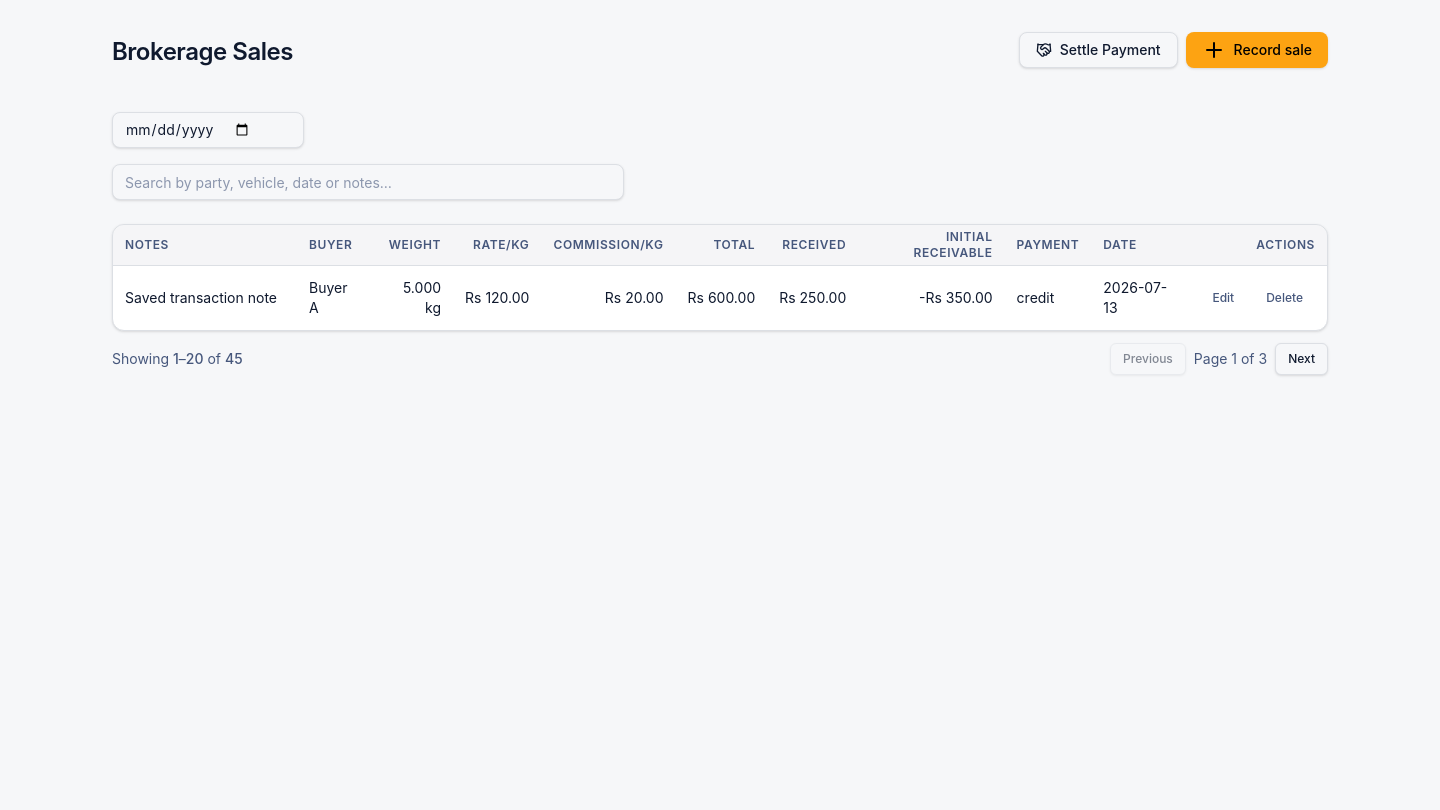
Test: Brokerage transaction balances › offers only external buyers and supports party search
This screenshot has width=1440, height=810.
Click the button "Record sale" at point(1257, 50), box [1186,32,1328,68]
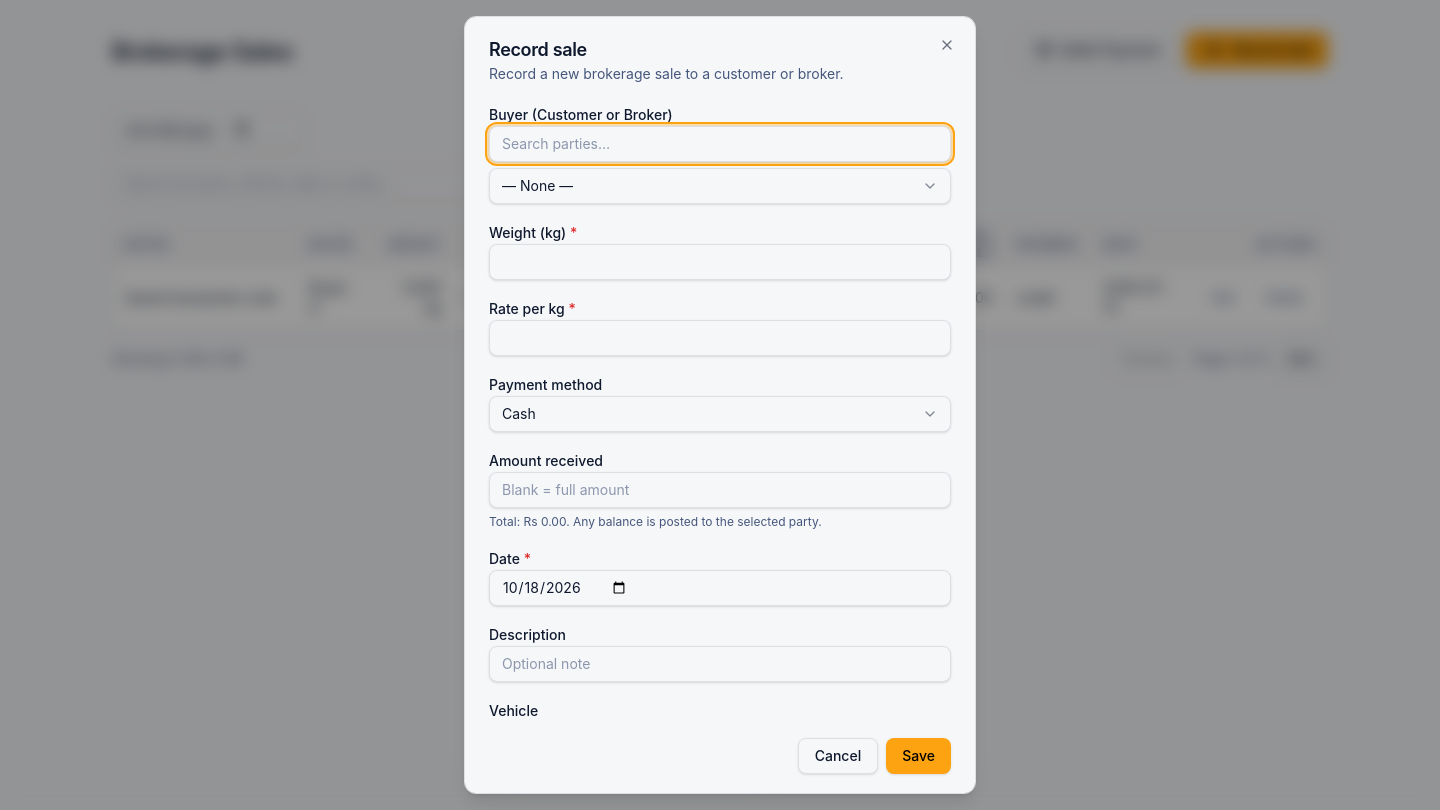
Expected: the dropdown named "Buyer (Customer or Broker)" is shown, [489,168,951,204]
Expected: the field labelled "Search parties" is shown, [489,126,951,162]
